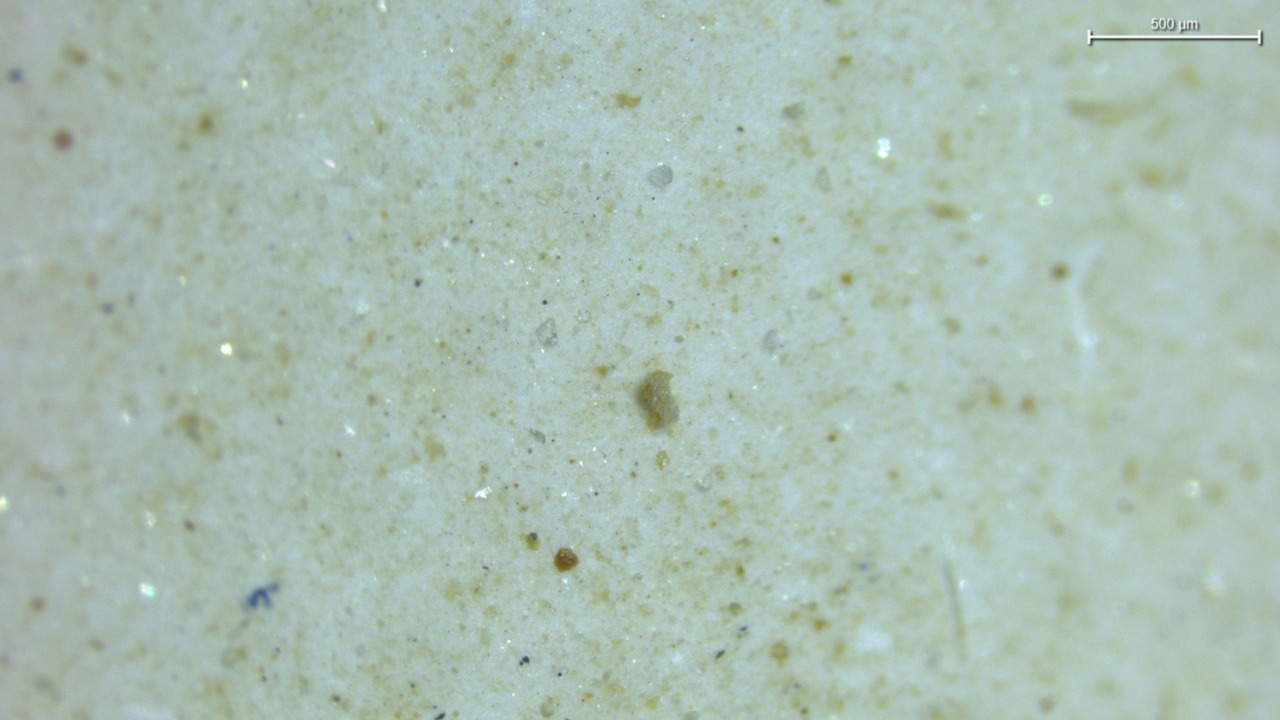microplastic_fragment: (637, 371, 679, 430), (647, 164, 673, 188)
